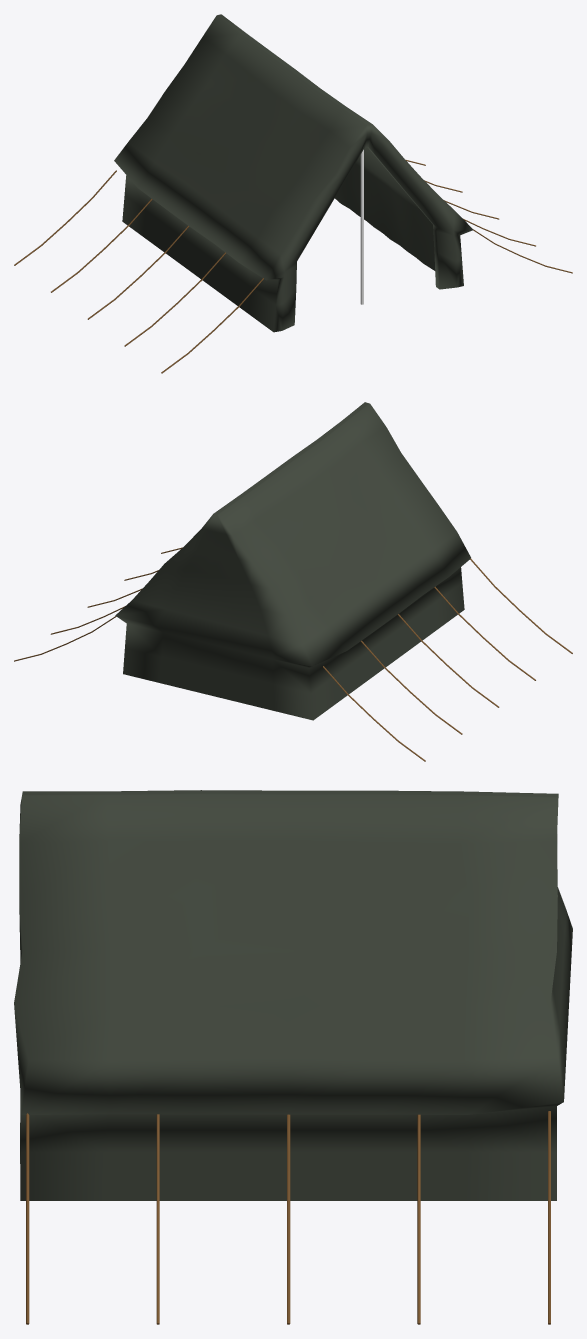
The model's file is tent.fbx.
The picture shows the model from 3 angles, top to bottom: view 1: azimuth 30°, elevation 25°; view 2: azimuth 150°, elevation 25°; view 3: azimuth 270°, elevation 25°; orthographic projection. The views are drawn at different scales.
Visible parts, largest first — view 1: Cube, ropes, Cylinder.001; view 2: Cube, ropes; view 3: Cube, ropes.
Boxes of the visible parts, x1,y1,x2,y2 form: Cube: (114, 14, 473, 332); ropes: (14, 159, 572, 373); Cylinder.001: (360, 149, 363, 304); Cube: (115, 402, 470, 720); ropes: (14, 547, 572, 761); Cube: (14, 790, 572, 1200); ropes: (26, 1111, 550, 1324).
Size of the model in its own units: 2409 by 1119 by 1599.
